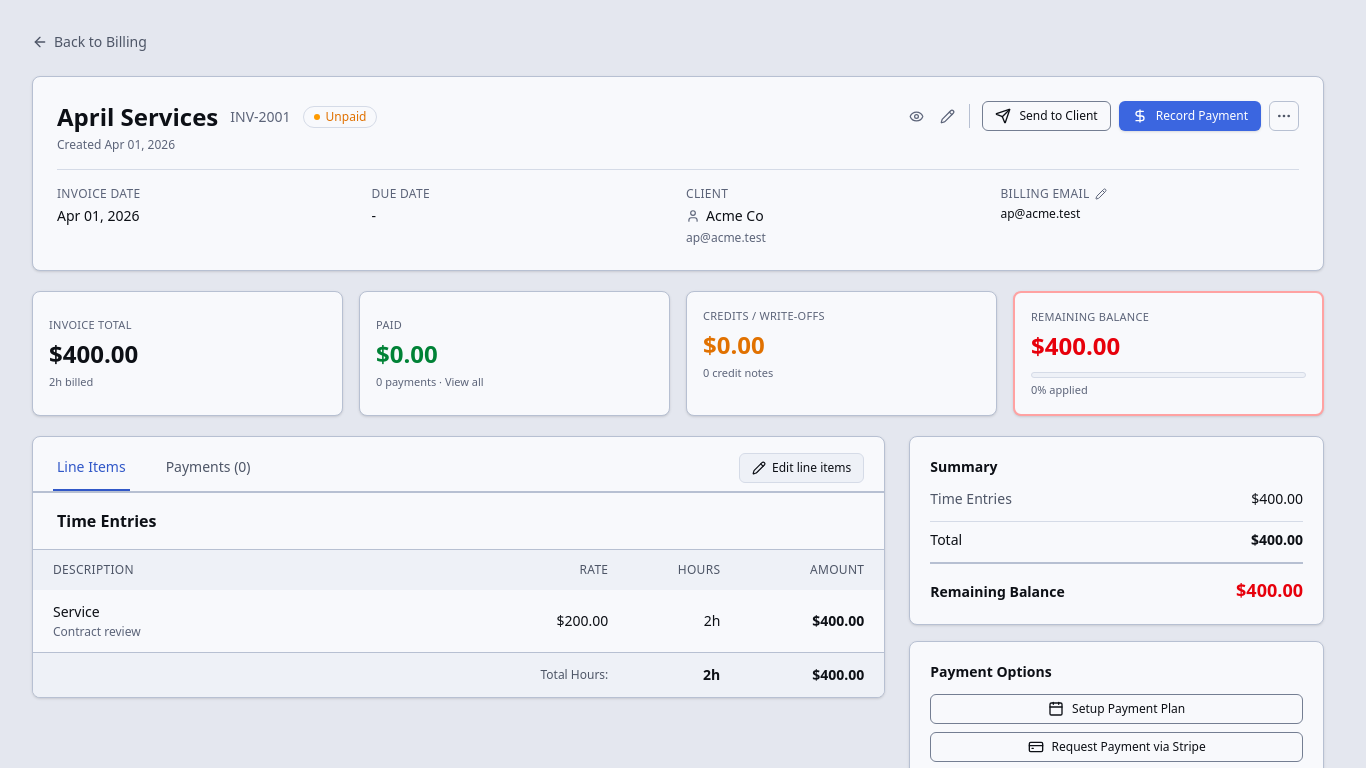
Test: when Void Invoice is offered › is in the More menu of an open invoice with no payments
This screenshot has width=1366, height=768.
Click the button named "More actions".
click(1284, 116)  # box [1269,101,1299,131]
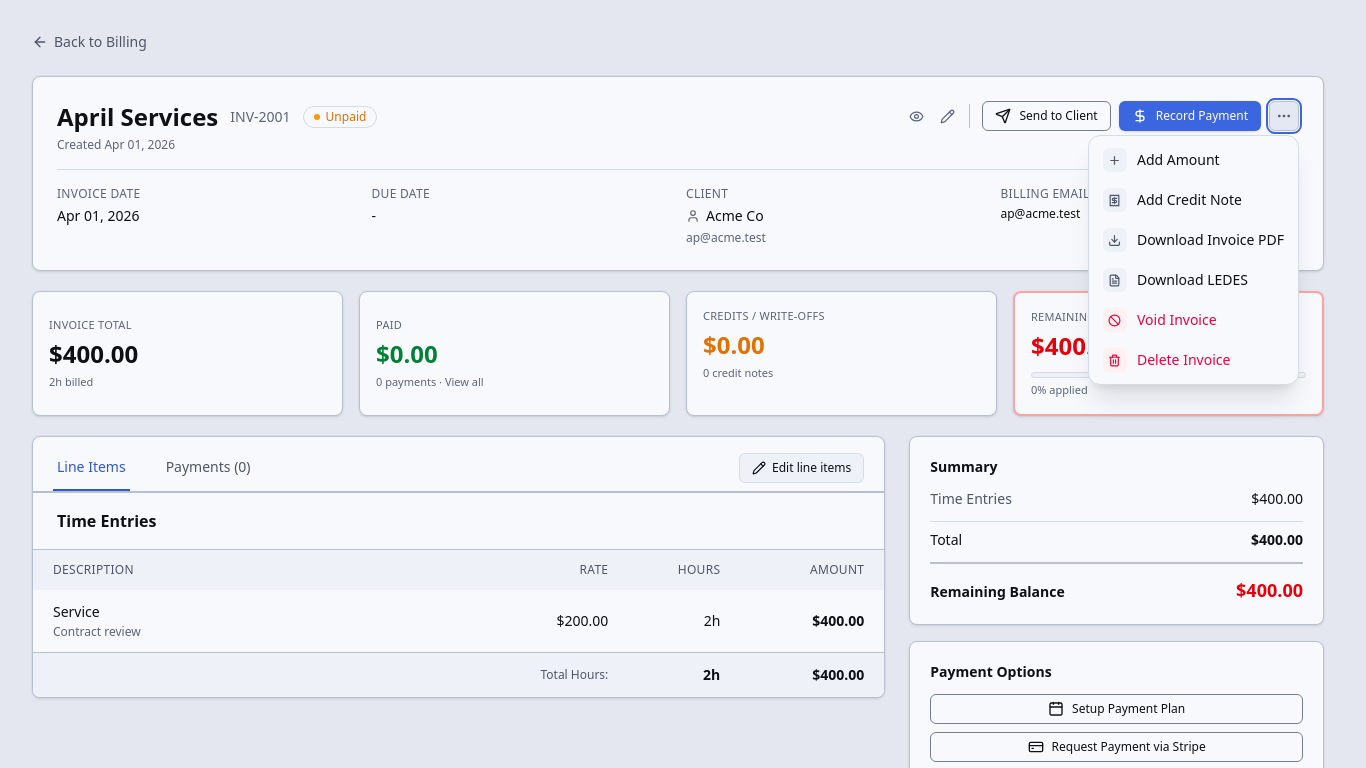
Check: the button "Void Invoice" is shown, box [1093,300,1294,340]
